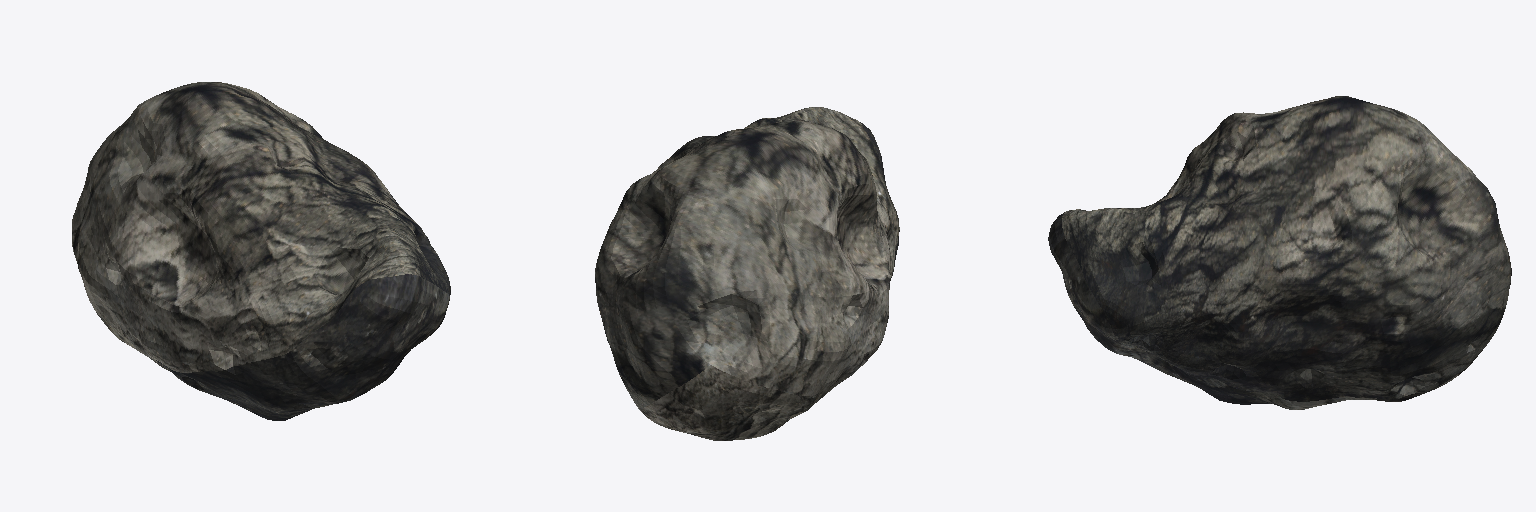
The picture shows the model from 3 angles: view 1: azimuth 30°, elevation 25°; view 2: azimuth 150°, elevation 25°; view 3: azimuth 270°, elevation 25°; orthographic projection.
Parts seen in each view (by area): view 1: asteroid_uv_Group1; view 2: asteroid_uv_Group1; view 3: asteroid_uv_Group1.
Boxes of the visible parts, x1,y1,x2,y2 form: asteroid_uv_Group1: [72, 82, 450, 420]; asteroid_uv_Group1: [595, 107, 899, 440]; asteroid_uv_Group1: [1048, 96, 1511, 409].
Bounding box in the file's own units: 46.98 × 53.92 × 77.41.
Materials: 1 (1 with a texture image).